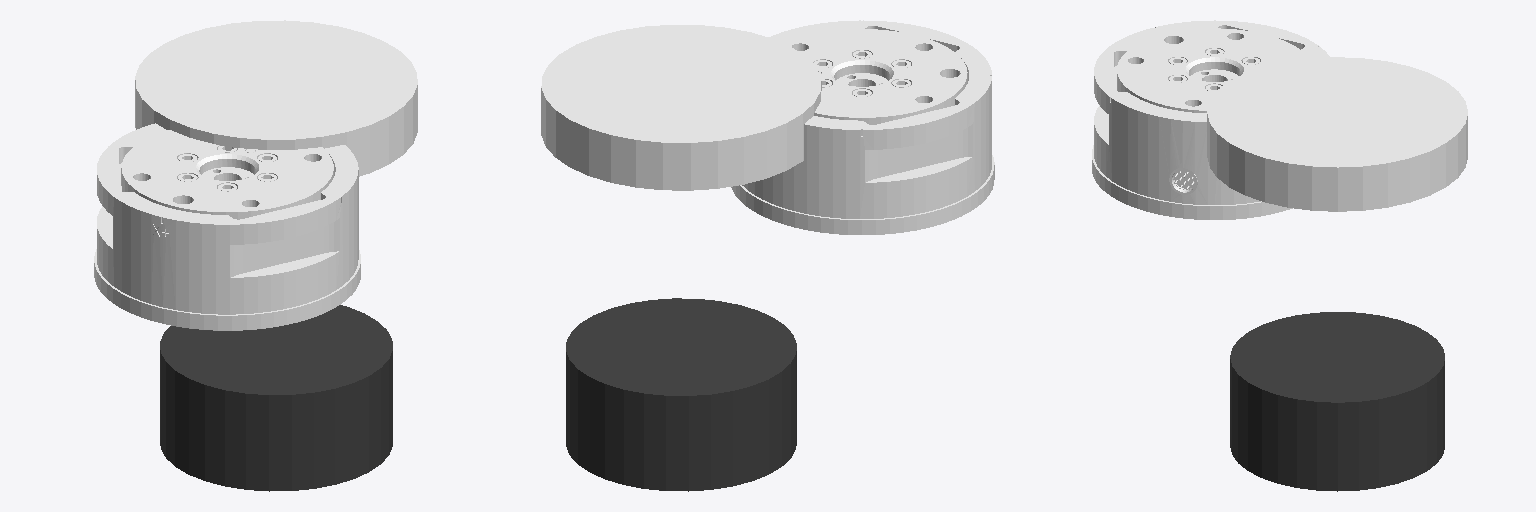
URDF robot description (kuka):
<?xml version="1.0" ?>
<robot name="kuka">
    <material name="DarkGrey">
        <color rgba="0.3 0.3 0.3 1.0"/>
    </material>
    <material name="Black">
        <color rgba="0 0 0 1.0"/>
    </material>
    <material name="Orange">
        <color rgba="1.0 0.487 0 1.0"/>
    </material>
    <material name="Silver">
        <color rgba="1.0 1.0 1.0 1.0"/>
    </material>
    <material name="Grey">
        <color rgba="0.7 0.7 0.7 1.0"/>
    </material>
    <material name="Blue">
        <color rgba="0.0 0.0 0.8 1.0"/>
    </material>
    <link name="lwr_arm_0_link">
        <inertial>
            <mass value="2.0"/>
            <origin xyz="0 0 0.055"/>
            <inertia ixx="0.00381666666667" ixy="0" ixz="0" iyy="0.0036" iyz="0" izz="0.00381666666667"/>
        </inertial>
        <visual>
            <origin rpy="0 0 3.14159265359" xyz="0 0 0"/>
            <geometry>
                <mesh filename="meshes/visual/base.STL"/>
            </geometry>
            <material name="Grey"/>
        </visual>
        <!--
        <collision>
            <origin rpy="0 0 0" xyz="0 0 0.055"/>
            <geometry>
                <cylinder length="0.11" radius="0.07"/>
            </geometry>
        </collision>
        -->
    </link>
    <joint name="lwr_arm_0_joint" type="revolute">
        <origin rpy="0 0 3.14159265359" xyz="0 0 0.11"/>
        <axis xyz="0 0 1"/>
        <limit effort="204" lower="-2.96705972839" upper="2.96705972839" velocity="1.91986217719"/>
        <safety_controller k_position="30" k_velocity="30" soft_lower_limit="-2.93215314335" soft_upper_limit="2.93215314335"/>
        <dynamics damping="1.0"/>
        <parent link="lwr_arm_0_link"/>
        <child link="lwr_arm_1_link"/>
    </joint>
    <link name="lwr_arm_1_link">
        <inertial>
            <mass value="2.0"/>
            <origin rpy="0 0 0" xyz="0 -0.06 0.130"/>
            <inertia ixx="0.0136666666667" ixy="0" ixz="0" iyy="0.003" iyz="0" izz="0.0118666666667"/>
        </inertial>
        <visual>
            <origin rpy="0 0 0" xyz="0 0 -0.008"/>
            <geometry>
                <mesh filename="meshes/visual/link_1.STL"/>
            </geometry>
            <material name="Blue"/>
        </visual>
        <!--
        <collision>
            <origin rpy="0 0 0" xyz="0 0 0.0"/>
            <geometry>
                <sphere radius="0.07"/>
            </geometry>
        </collision>
        <collision>
            <origin rpy="0 0 0" xyz="0 -0.06 0.2"/>
            <geometry>
                <sphere radius="0.07"/>
            </geometry>
        </collision>
        <collision>
            <origin rpy="0.291 0 0" xyz="0 -0.03 0.1"/>
            <geometry>
                <cylinder length="0.208" radius="0.07"/>
            </geometry>
        </collision>
        -->
    </link>
    <transmission name="lwr_arm_0_trans" type="SimpleTransmission">
        <actuator name="lwr_arm_0_motor"/>
        <joint name="lwr_arm_0_joint"/>
        <mechanicalReduction>1.0</mechanicalReduction>
    </transmission>
    <joint name="lwr_arm_1_joint" type="revolute">
        <origin rpy="0 0 0" xyz="0 0 0.2"/>
        <axis xyz="0 1 0"/>
        <limit effort="306" lower="-2.09439510239" upper="2.09439510239" velocity="1.91986217719"/>
        <safety_controller k_position="30" k_velocity="30" soft_lower_limit="-2.05948851735" soft_upper_limit="2.05948851735"/>
        <dynamics damping="1.0" friction="10"/>
        <parent link="lwr_arm_1_link"/>
        <child link="lwr_arm_2_link"/>
    </joint>
    <link name="lwr_arm_2_link">
        <inertial>
            <mass value="2.0"/>
            <origin rpy="0 0 0" xyz="0 0.06 0.07"/>
            <inertia ixx="0.0136666666667" ixy="0" ixz="0" iyy="0.003" iyz="0" izz="0.0118666666667"/>
        </inertial>
        <visual>
            <origin rpy="0 0 0" xyz="0 0 0.0"/>
            <geometry>
                <mesh filename="meshes/visual/link_2.STL"/>
            </geometry>
            <material name="Blue"/>
        </visual>
        <!--
        <collision>
            <origin rpy="0 0 0" xyz="0 0 0.2"/>
            <geometry>
                <sphere radius="0.07"/>
            </geometry>
        </collision>
        <collision>
            <origin rpy="0 0 0" xyz="0 0.06 0.0"/>
            <geometry>
                <sphere radius="0.07"/>
            </geometry>
        </collision>
        <collision>
            <origin rpy="0.291 0 0" xyz="0 0.03 0.1"/>
            <geometry>
                <cylinder length="0.208" radius="0.07"/>
            </geometry>
        </collision>
        -->
    </link>
    <transmission name="lwr_arm_1_trans" type="SimpleTransmission">
        <actuator name="lwr_arm_1_motor"/>
        <joint name="lwr_arm_1_joint"/>
        <mechanicalReduction>1.0</mechanicalReduction>
    </transmission>
    <joint name="lwr_arm_2_joint" type="revolute">
        <origin rpy="0 0 0" xyz="0 0 0.20"/>
        <axis xyz="0 0 1"/>
        <limit effort="204" lower="-2.96705972839" upper="2.96705972839" velocity="2.26892802759"/>
        <safety_controller k_position="30" k_velocity="30" soft_lower_limit="-2.93215314335" soft_upper_limit="2.93215314335"/>
        <dynamics damping="1.0"/>
        <parent link="lwr_arm_2_link"/>
        <child link="lwr_arm_3_link"/>
    </joint>
    <link name="lwr_arm_3_link">
        <inertial>
            <mass value="2.0"/>
            <origin rpy="0 0 0" xyz="0 0.06 0.130"/>
            <inertia ixx="0.0136666666667" ixy="0" ixz="0" iyy="0.003" iyz="0" izz="0.0118666666667"/>
        </inertial>
        <visual>
            <origin rpy="0 0 0" xyz="0 0 -0.008"/>
            <geometry>
                <mesh filename="meshes/visual/link_3.STL"/>
            </geometry>
            <material name="Blue"/>
        </visual>
        <!--
        <collision>
            <origin rpy="0 0 0" xyz="0 0 0.0"/>
            <geometry>
                <sphere radius="0.07"/>
            </geometry>
        </collision>
        <collision>
            <origin rpy="0 0 0" xyz="0 0.06 0.2"/>
            <geometry>
                <sphere radius="0.07"/>
            </geometry>
        </collision>
        <collision>
            <origin rpy="-0.291 0 0" xyz="0 0.03 0.1"/>
            <geometry>
                <cylinder length="0.208" radius="0.07"/>
            </geometry>
        </collision>
        -->
    </link>
    <transmission name="lwr_arm_2_trans" type="SimpleTransmission">
        <actuator name="lwr_arm_2_motor"/>
        <joint name="lwr_arm_2_joint"/>
        <mechanicalReduction>1.0</mechanicalReduction>
    </transmission>
    <joint name="lwr_arm_3_joint" type="revolute">
        <origin rpy="0 0 0" xyz="0 0 0.20"/>
        <axis xyz="0 -1 0"/>
        <limit effort="306" lower="-2.09439510239" upper="2.09439510239" velocity="2.26892802759"/>
        <safety_controller k_position="30" k_velocity="30" soft_lower_limit="-2.05948851735" soft_upper_limit="2.05948851735"/>
        <dynamics damping="1.0"/>
        <parent link="lwr_arm_3_link"/>
        <child link="lwr_arm_4_link"/>
    </joint>
    <link name="lwr_arm_4_link">
        <inertial>
            <mass value="2.0"/>
            <origin rpy="0 0 0" xyz="0 -0.06 0.07"/>
            <inertia ixx="0.0136666666667" ixy="0" ixz="0" iyy="0.003" iyz="0" izz="0.0118666666667"/>
        </inertial>
        <visual>
            <origin rpy="0 0 0" xyz="0 0 0.0"/>
            <geometry>
            <mesh filename="meshes/visual/link_4.STL"/>
                </geometry>
            <material name="Blue"/>
        </visual>
        <!--
        <collision>
            <origin rpy="0 0 0" xyz="0 0 0.2"/>
            <geometry>
                <sphere radius="0.07"/>
            </geometry>
        </collision>
            <collision>
            <origin rpy="0 0 0" xyz="0 -0.06 0.0"/>
            <geometry>
                <sphere radius="0.07"/>
            </geometry>
        </collision>
        <collision>
            <origin rpy="-0.291 0 0" xyz="0 -0.03 0.1"/>
            <geometry>
                <cylinder length="0.208" radius="0.07"/>
            </geometry>
        </collision>
        -->
    </link>
    <transmission name="lwr_arm_3_trans" type="SimpleTransmission">
        <actuator name="lwr_arm_3_motor"/>
        <joint name="lwr_arm_3_joint"/>
        <mechanicalReduction>1.0</mechanicalReduction>
    </transmission>
    <joint name="lwr_arm_4_joint" type="revolute">
        <origin rpy="0 0 0" xyz="0 0 0.20"/>
        <axis xyz="0 0 1"/>
        <limit effort="204" lower="-2.96705972839" upper="2.96705972839" velocity="2.26892802759"/>
        <safety_controller k_position="30" k_velocity="30" soft_lower_limit="-2.93215314335" soft_upper_limit="2.93215314335"/>
        <dynamics damping="1.0"/>
        <parent link="lwr_arm_4_link"/>
        <child link="lwr_arm_5_link"/>
    </joint>
    <link name="lwr_arm_5_link">
        <inertial>
            <mass value="2.0"/>
            <origin rpy="0 0 0" xyz="0 0 0.124"/>
            <inertia ixx="0.0126506666667" ixy="0" ixz="0" iyy="0.003" iyz="0" izz="0.0108506666667"/>
        </inertial>
        <visual>
            <origin rpy="0 0 0" xyz="0 0 -0.008"/>
            <geometry name="lwr_arm_5_geom">
                <mesh filename="meshes/visual/link_5.STL"/>
            </geometry>
            <material name="Blue"/>
        </visual>
        <!--
        <collision>
            <origin rpy="0 0 0" xyz="0 0 0.0"/>
            <geometry>
                <sphere radius="0.07"/>
            </geometry>
        </collision>
        <collision>
            <origin rpy="0 0 0" xyz="0 -0.04 0.19"/>
            <geometry>
                <sphere radius="0.07"/>
            </geometry>
        </collision>
        <collision>
            <origin rpy="0.207 0 0" xyz="0 -0.02 0.095"/>
            <geometry>
                <cylinder length="0.198" radius="0.07"/>
            </geometry>
        </collision>
        -->
    </link>
    <transmission name="lwr_arm_4_trans" type="SimpleTransmission">
        <actuator name="lwr_arm_4_motor"/>
        <joint name="lwr_arm_4_joint"/>
        <mechanicalReduction>1.0</mechanicalReduction>
    </transmission>
    <joint name="lwr_arm_5_joint" type="revolute">
        <origin rpy="0 0 0" xyz="0 0 0.19"/>
        <axis xyz="0 1 0"/>
        <limit effort="306" lower="-2.09439510239" upper="2.09439510239" velocity="3.14159265359"/>
        <safety_controller k_position="30" k_velocity="30" soft_lower_limit="-2.05948851735" soft_upper_limit="2.05948851735"/>
        <dynamics damping="1.0"/>
        <parent link="lwr_arm_5_link"/>
        <child link="lwr_arm_6_link"/>
    </joint>
    <link name="lwr_arm_6_link">
        <inertial>
            <mass value="0.2"/>
            <origin rpy="0 0 0" xyz="0 0 0.0625"/>
            <inertia ixx="0.000520833333333" ixy="0" ixz="0" iyy="0.000520833333333" iyz="0" izz="0.000520833333333"/>
        </inertial>
        <visual>
            <origin rpy="0 0 0" xyz="0 0 0"/>
            <geometry>
                <mesh filename="meshes/visual/link_6.STL"/>
            </geometry>
            <material name="Grey"/>
        </visual>
    </link>
    <transmission name="lwr_arm_5_trans" type="SimpleTransmission">
        <actuator name="lwr_arm_5_motor"/>
        <joint name="lwr_arm_5_joint"/>
        <mechanicalReduction>1.0</mechanicalReduction>
    </transmission>
    <joint name="lwr_arm_6_joint" type="revolute">
        <origin rpy="0 0 3.14159265359" xyz="0 0 0.078"/>
        <axis xyz="0 0 1"/>
        <limit effort="204" lower="-2.96705972839" upper="2.96705972839" velocity="3.14159265359"/>
        <safety_controller k_position="30" k_velocity="30" soft_lower_limit="-2.93215314335" soft_upper_limit="2.93215314335"/>
        <dynamics damping="1.0"/>
        <parent link="lwr_arm_6_link"/>
        <child link="lwr_arm_7_link"/>
    </joint>
    <link name="lwr_arm_7_link">
        <inertial>
            <mass value="0.2"/>
            <origin xyz="0 0 0"/>
            <inertia ixx="0.0333333333333" ixy="0" ixz="0" iyy="0.0333333333333" iyz="0" izz="0.0333333333333"/>
        </inertial>
        <visual>
            <origin rpy="0 0 0" xyz="0 0 0"/>
            <geometry>
                <mesh filename="meshes/visual/link_7.STL"/>
            </geometry>
            <material name="DarkGrey"/>
        </visual>
        <visual>
            <origin rpy="0 0 0" xyz="0 0 0.016"/>
            <geometry>
                <cylinder length="0.03" radius="0.033"/>
            </geometry>
            <material name="DarkGrey"/>
        </visual>
        <!--
        <collision>
            <origin rpy="0 0 0" xyz="0 0 0"/>
            <geometry>
                <cylinder length="0.046" radius="0.04"/>
            </geometry>
        </collision>
        -->
    </link>
    <joint name="lwr_arm_7_joint" type="fixed">
        <parent link="lwr_arm_7_link"/>
        <child link="adaptor_kuka"/>
        <origin rpy="0 0 3.14159265359" xyz="0 0 0.032"/>
    </joint>
    <link name="adaptor_kuka">
        <inertial>
            <mass value="0.1"/>
            <origin xyz="0 0 0"/>
            <inertia ixx="0.01" ixy="0" ixz="0" iyy="0.01" iyz="0" izz="0.01"/>
        </inertial>
        <visual>
            <origin rpy="0 0 0" xyz="0 0 0.0"/>
            <geometry>
                <mesh filename="meshes/visual/adaptor_kuka.stl" scale="0.001 0.001 0.001"/>
            </geometry>
            <material name="Black"/>
        </visual>
        <!--
        <collision>
            <origin rpy="0 3.1416 0" xyz="0 0 0"/>
            <geometry>
                <mesh filename="meshes/visual/adaptor_kuka.stl" scale="0.001 0.001 0.001"/>
            </geometry>
        </collision>
        -->
    </link>
    <joint name="force_torque_sensor_mount" type="fixed">
        <origin rpy="0 0 0" xyz="0 0 0.0453"/>
        <parent link="adaptor_kuka"/>
        <child link="force_torque_sensor"/>
    </joint>
    <link name="force_torque_sensor">
        <inertial>
            <mass value="0.5"/>
            <origin xyz="-0.000007 0.001524 0.027591"/>
            <inertia ixx="0.0333333333333" ixy="0" ixz="0" iyy="0.0333333333333" iyz="0" izz="0.0333333333333"/>
        </inertial>
        <visual>
            <origin rpy="0 0 0" xyz="0 0 0"/>
            <material name="Silver"/>
            <geometry>
                <mesh filename="meshes/visual/force_sensor.stl" scale="0.001 0.001 0.001"/>
            </geometry>
        </visual>
        <!--
        <collision>
            <origin rpy="0 0 0" xyz="0 0 -0.0333"/>
            <geometry>
                <cylinder length="0.0333" radius="0.04"/>
            </geometry>
        </collision>
        -->
    </link>
    <joint name="end_effector_joint" type="fixed">
        <origin rpy="0 0 0.0" xyz="0 0 0.02"/>
        <parent link="force_torque_sensor"/>
        <child link="end_effector"/>
    </joint>
    <link name="end_effector">
        <inertial>
            <mass value="1"/>
            <origin xyz="-0.000007 0.001524 0.027591"/>
            <inertia ixx="0.00409836" ixy="0.000000" ixz="0.000000" iyy="0.00061475" iyz="0.000000" izz="0.00409836"/>
        </inertial>
        <visual>
            <origin rpy="0 0 0" xyz="0 0 0"/>
            <material name="Black"/>
            <geometry>
                <mesh filename="meshes/visual/adaptor_endeffector.stl" scale="0.001 0.001 0.001"/>
            </geometry>
            <material name="Black"/>
        </visual>
        <collision>
            <geometry>
                <mesh filename="meshes/visual/adaptor_endeffector.stl" scale="0.001 0.001 0.001"/>
            </geometry>
        </collision>
    </link>
    <joint name="end_effector_joint_sponge" type="fixed">
        <origin rpy="0 0 0.0" xyz="0 0 0.015"/>
        <parent link="end_effector"/>
        <child link="end_effector_sponge"/>
    </joint>
    <link name="end_effector_sponge">
        <inertial>
            <mass value="1"/>
            <origin xyz="-0.000007 0.001524 0.027591"/>
            <inertia ixx="0.00409836" ixy="0.000000" ixz="0.000000" iyy="0.00061475" iyz="0.000000" izz="0.00409836"/>
        </inertial>
        <visual>
            <origin rpy="0 0 0" xyz="0 0 -0.006"/>
            <geometry>
                <cylinder length="0.015" radius="0.04"/>
            </geometry>
            <material name="Silver"/>
        </visual>
        <collision>
            <origin rpy="0 0 0" xyz="0 0 -0.006"/>
            <geometry>
                <cylinder length="0.015" radius="0.04"/>
            </geometry>
        </collision>
    </link>
</robot>

--- Render facts (derived) ---
3 views of the same robot in one strip: view 1: azimuth 30°, elevation 25°; view 2: azimuth 150°, elevation 25°; view 3: azimuth 270°, elevation 25° (orthographic).
Model kuka with 12 links and 11 joints (7 revolute, 4 fixed), rooted at lwr_arm_0_link, posed every joint at zero.
Links seen in each view (by area): view 1: force_torque_sensor, lwr_arm_7_link, end_effector_sponge; view 2: lwr_arm_7_link, force_torque_sensor, end_effector_sponge; view 3: lwr_arm_7_link, end_effector_sponge, force_torque_sensor.
Link boxes in pixels (bbox=[...]): force_torque_sensor: bbox=[94, 123, 360, 330]; lwr_arm_7_link: bbox=[160, 305, 392, 491]; end_effector_sponge: bbox=[135, 20, 417, 176]; lwr_arm_7_link: bbox=[566, 298, 796, 491]; force_torque_sensor: bbox=[731, 20, 994, 234]; end_effector_sponge: bbox=[541, 25, 821, 190]; lwr_arm_7_link: bbox=[1230, 312, 1444, 491]; end_effector_sponge: bbox=[1207, 57, 1467, 211]; force_torque_sensor: bbox=[1092, 20, 1330, 219].
Size in the robot's own frame: 0.1154 by 0.1154 by 0.1128 metres.
Meshes: 11 distinct files referenced, 1 mesh visuals loaded (1 binary STL); not drawn: 10 (reference not matched to a file when rendering).